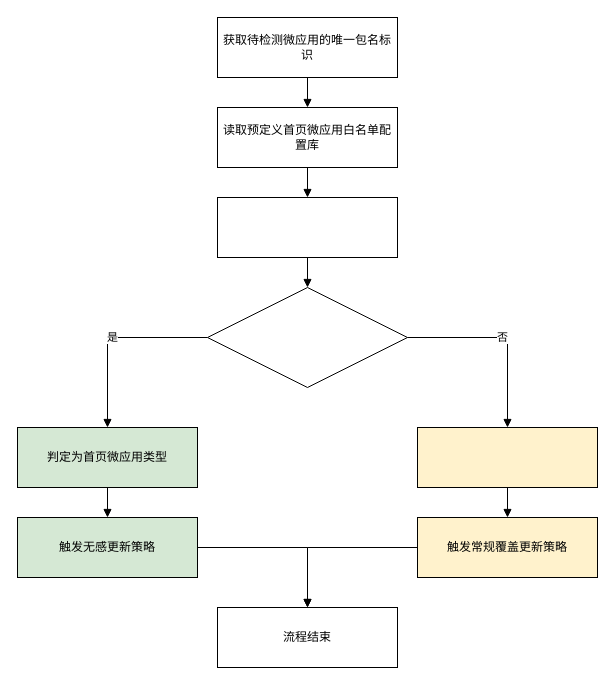
Some shapes in this 615 by 685 pixel diagram are drawn without their labels. The box of each missing label's shape, as (x1, y1, x2, y2) in pixels:
判定为普通微应用类型: (416, 426, 598, 488)
微应用包名是否包含白名单关键词？: (206, 286, 408, 388)
遍历白名单关键词，与微应用包名进行匹配: (216, 196, 398, 258)
